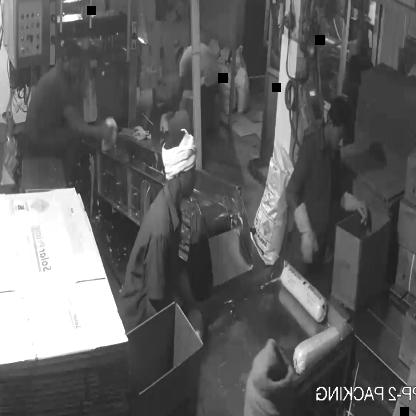glove: (289, 196, 325, 266), (333, 183, 378, 232)
no_glove: (57, 98, 118, 141)
